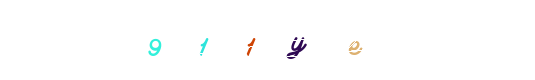1: (210, 0, 290, 80), (227, 0, 307, 80)
9: (130, 0, 210, 80)
E: (287, 0, 367, 80)
Y: (256, 0, 336, 80)
